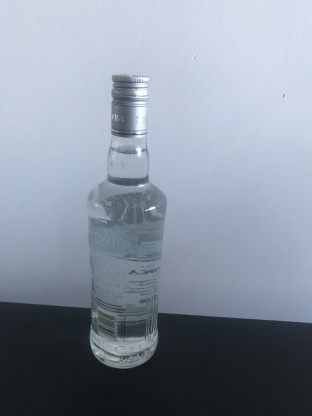nakretka: (109, 70, 149, 140)
